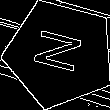N_E: (29, 28, 90, 80)
